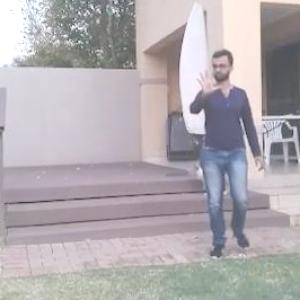follow_hand: (192, 63, 226, 98)
